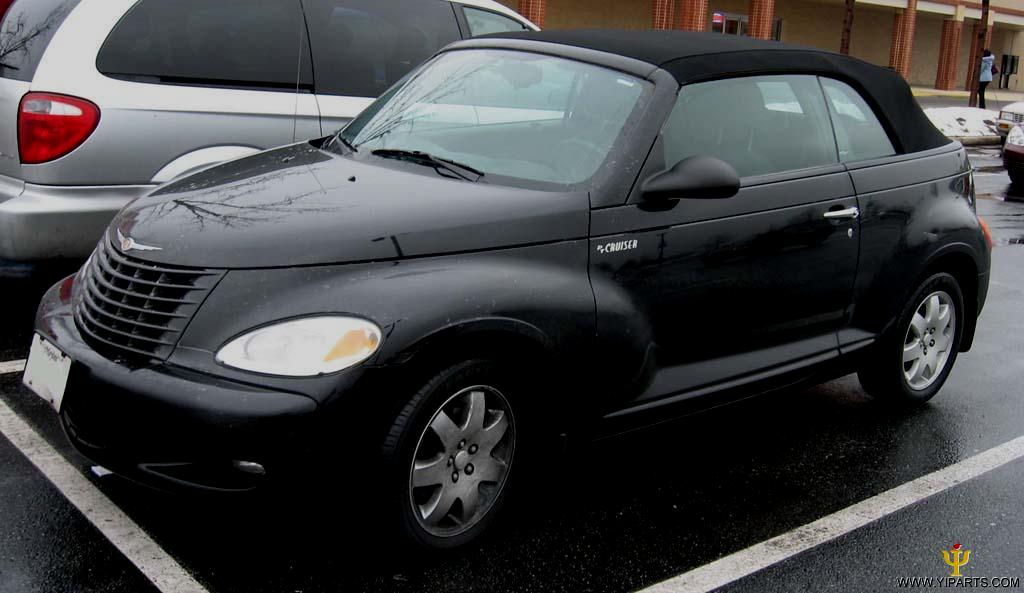Chrysler: (106, 224, 166, 263)
